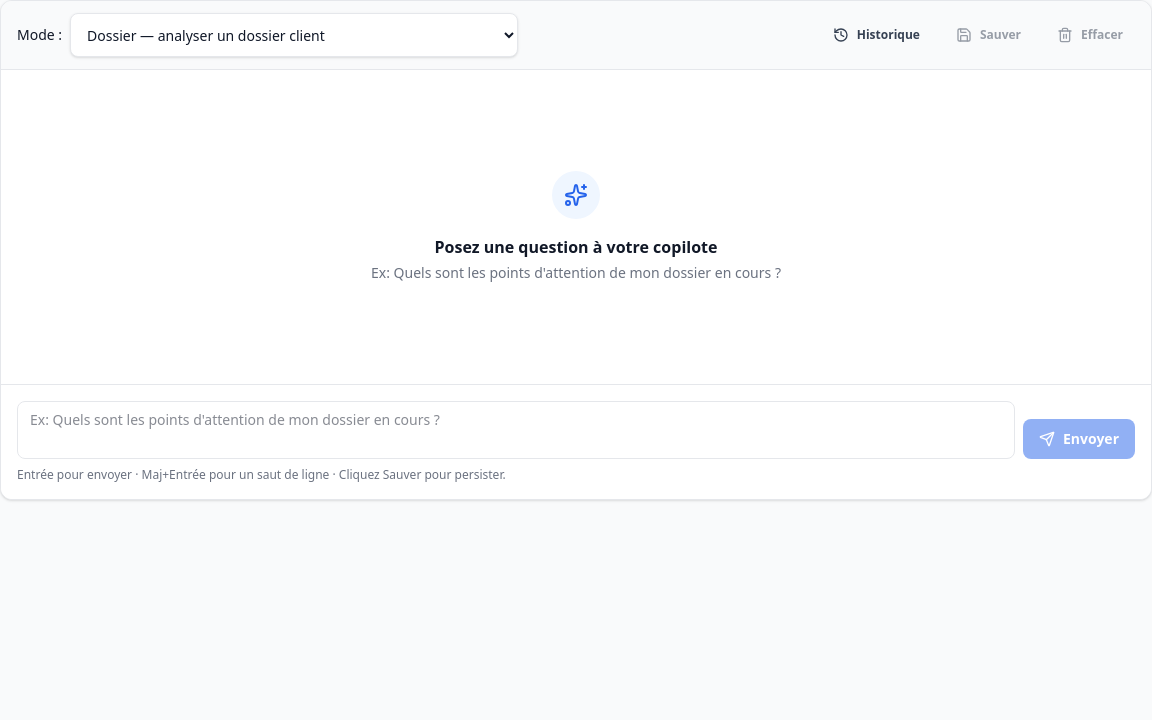
Test: ChatInterface › affiche un message d'erreur quand le serveur emet un event error
Replace the text in the text box named "votre question" with "Test": (516, 430) [17, 401, 1015, 459]
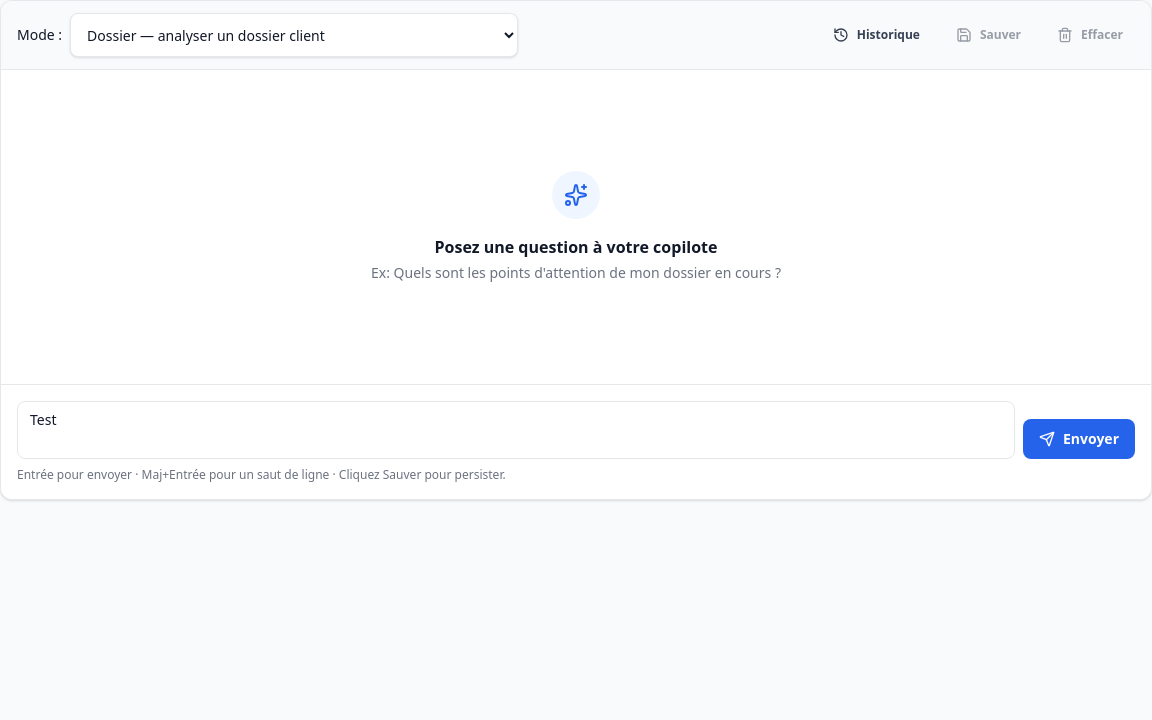
Click the button with aria-label "envoyer la question": (1079, 439) [1023, 419, 1135, 459]
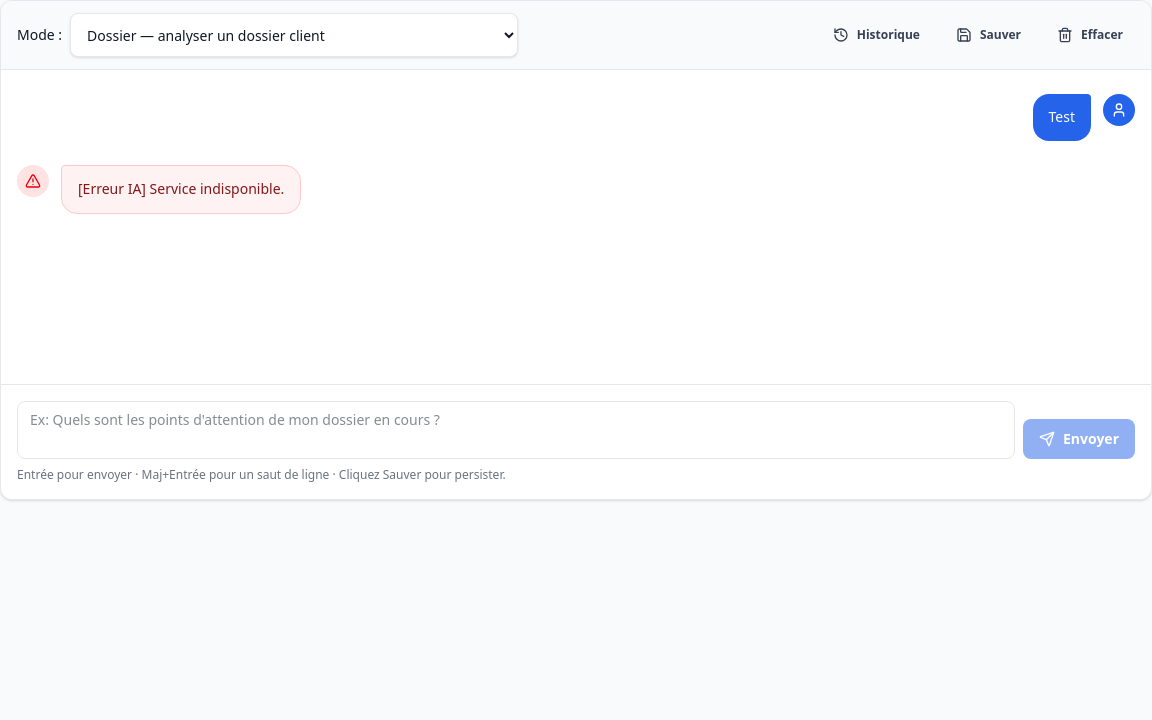
Check: the message shows "Service indisponible", box [78, 179, 284, 198]
